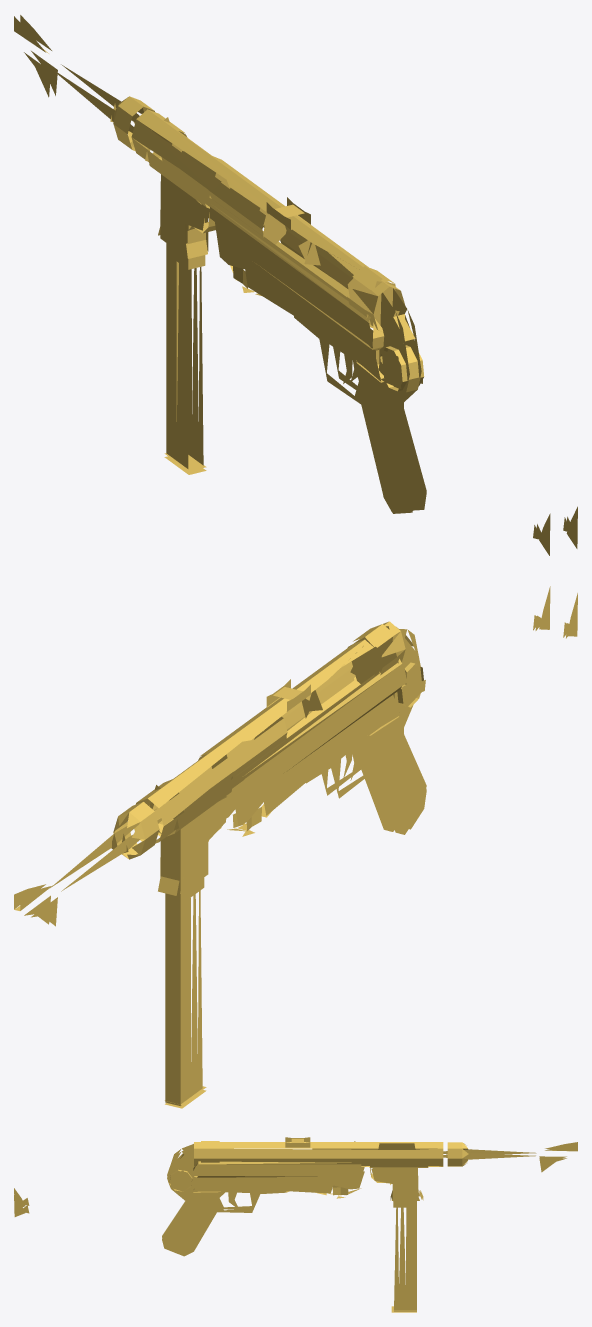
The model's file is charm_mst_subfusil_1.glb.
3 views of the same model, one above another, from view 1: azimuth 30°, elevation 25°; view 2: azimuth 150°, elevation 25°; view 3: azimuth 270°, elevation 25° (orthographic). The views are drawn at different scales.
Parts seen in each view (by area): view 1: p0_paint; view 2: p0_paint; view 3: p0_paint.
Boxes of the visible parts, <box> form: p0_paint: <box>14,15,577,555</box>; p0_paint: <box>14,586,577,1108</box>; p0_paint: <box>14,1137,577,1312</box>.
Size of the model in its own units: 0.0489 by 0.2691 by 0.805.
